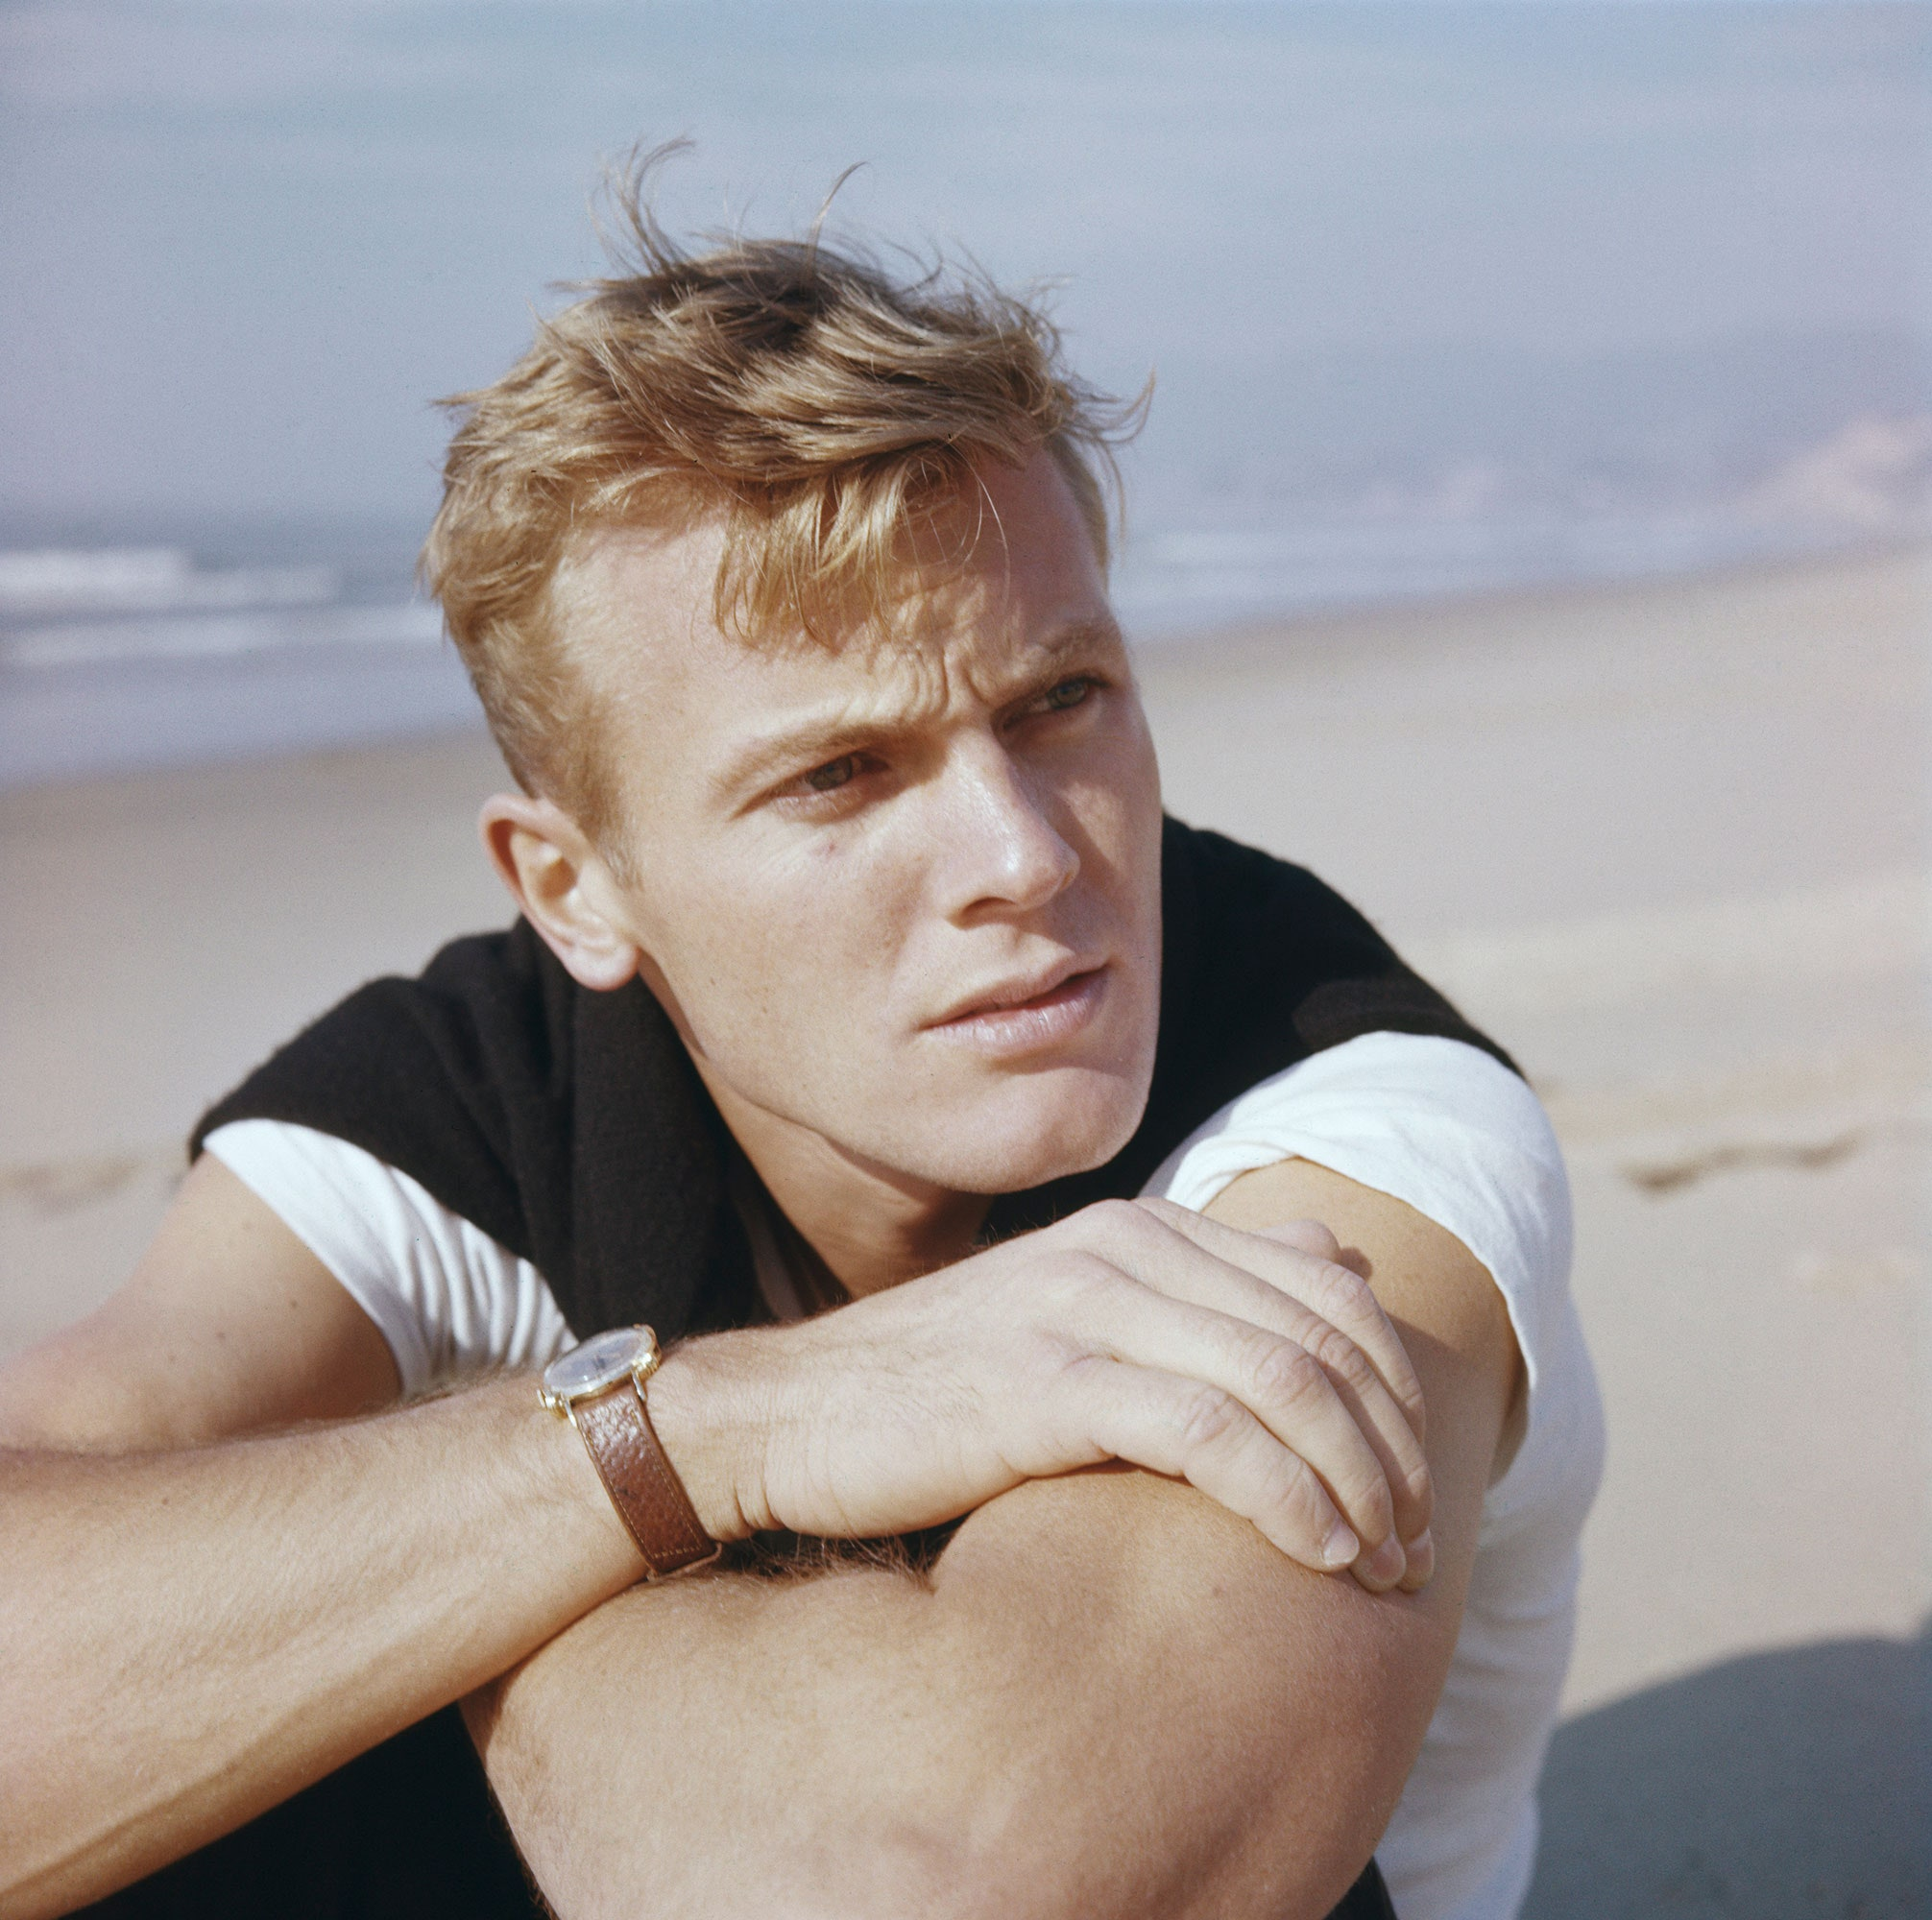bare: (667, 778, 1171, 1184)
